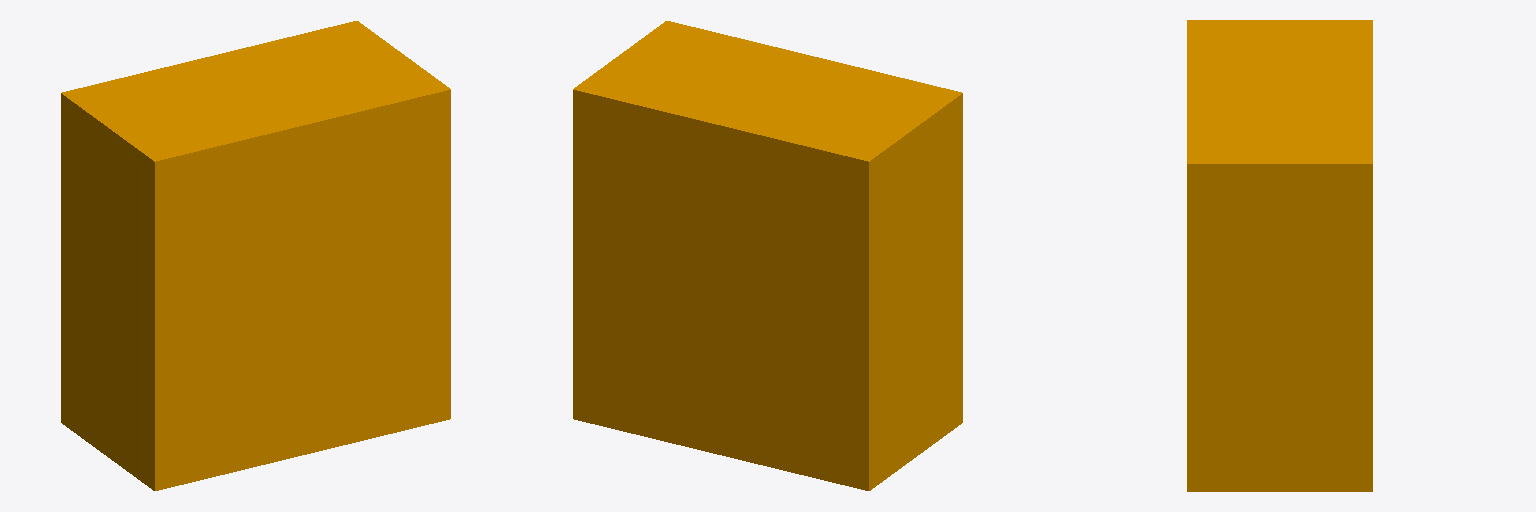
The robot description file, URDF, robot "large_box":
<?xml version="1.0" ?>
<!-- =================================================================================== -->
<!-- |    This document was autogenerated by xacro from [local-path]/ros/hydro/src/rtm-ros-robotics/rtmros_gazebo/hrpsys_gazebo_tutorials/environment_models/large_box/model4.urdf.xacro | -->
<!-- |    EDITING THIS FILE BY HAND IS NOT RECOMMENDED                                 | -->
<!-- =================================================================================== -->
<robot name="large_box" xmlns:body="http://playerstage.sourceforge.net/gazebo/xmlschema/#body" xmlns:controller="http://playerstage.sourceforge.net/gazebo/xmlschema/#controller" xmlns:gazebo="http://playerstage.sourceforge.net/gazebo/xmlschema/#gz" xmlns:geom="http://playerstage.sourceforge.net/gazebo/xmlschema/#geom" xmlns:interface="http://playerstage.sourceforge.net/gazebo/xmlschema/#interface" xmlns:joint="http://playerstage.sourceforge.net/gazebo/xmlschema/#joint" xmlns:model="http://playerstage.sourceforge.net/gazebo/xmlschema/#model" xmlns:physics="http://playerstage.sourceforge.net/gazebo/xmlschema/#physics" xmlns:renderable="http://playerstage.sourceforge.net/gazebo/xmlschema/#renderable" xmlns:rendering="http://playerstage.sourceforge.net/gazebo/xmlschema/#rendering" xmlns:sensor="http://playerstage.sourceforge.net/gazebo/xmlschema/#sensor" xmlns:xacro="http://www.ros.org/wiki/xacro" xmlns:xi="http://www.w3.org/2001/XInclude">
  <gazebo>
    <static>false</static>
  </gazebo>
  <link name="nil_link4">
    <visual>
      <origin xyz="0 0 0"/>
      <geometry>
        <box size="0.80 0.44 0.85"/>
      </geometry>
    </visual>
    <collision>
      <origin xyz="0 0 0"/>
      <geometry>
        <box size="0.80 0.44 0.85"/>
      </geometry>
    </collision>
    <inertial>
      <mass value="7.5"/>
      <origin rpy="0 0 0" xyz="0.0 0.0 0.5"/>
      <inertia ixx="10.0" ixy="0" ixz="0" iyy="5.7411" iyz="0" izz="0.788"/>
    </inertial>
  </link>
  <gazebo reference="nil_link4">
    <kp>1.000000e+06</kp>
    <kd>100.0</kd>
    <mu1>50.0</mu1>
    <mu2>50.0</mu2>
    <fdir1>1.0 0.0 0.0</fdir1>
  </gazebo>
  <gazebo reference="nil_link4">
    <material>Gazebo/Blue</material>
  </gazebo>
  <gazebo>
    <plugin filename="libAddForcePlugin2.so" name="simple_box_add_force_plugin2">
      <objname>obj4</objname>
      <linkname1>LARM_LINK6</linkname1>
      <linkname2>RARM_LINK6</linkname2>
    </plugin>
    <plugin filename="libGetVelPlugin.so" name="simple_box_get_vel_plugin">
      <objname>obj4</objname>
      <linkname>nil_link4</linkname>
    </plugin>
    <plugin filename="libSetVelPlugin.so" name="simple_box_set_vel_plugin">
      <objname>obj4</objname>
      <linkname>nil_link4</linkname>
    </plugin>
  </gazebo>
  <link name="LARM_LINK6">
    <visual>
      <origin rpy="0 -0 0" xyz="0 0 0"/>
      <geometry>
        <mesh filename="package://hrpsys_gazebo_tutorials/robot_models/HRP3HAND_L/meshes/LARM_LINK6_mesh.dae" scale="1 1 1"/>
      </geometry>
    </visual>
    <collision>
      <origin rpy="0 -0 0" xyz="0 0 0"/>
      <geometry>
        <mesh filename="package://hrpsys_gazebo_tutorials/robot_models/HRP3HAND_L/meshes/LARM_LINK6_mesh.dae" scale="1 1 1"/>
      </geometry>
    </collision>
    <inertial>
      <mass value="0.001"/>
      <origin rpy="0 -0 0" xyz="0.00067085 0.00738842 -0.085722"/>
      <inertia ixx="1e-02" ixy="0" ixz="0" iyy="1e-02" iyz="0" izz="1e-02"/>
    </inertial>
  </link>
  <gazebo reference="LARM_LINK6">
    <mu1>0.9</mu1>
    <mu2>0.9</mu2>
  </gazebo>
  <link name="L_INDEXMP_R_LINK">
    <visual>
      <origin rpy="0 -0 0" xyz="0 -0.0102 -0.1547"/>
      <geometry>
        <mesh filename="package://hrpsys_gazebo_tutorials/robot_models/HRP3HAND_L/meshes/L_INDEXMP_R_LINK_mesh.dae" scale="1 1 1"/>
      </geometry>
    </visual>
    <collision>
      <origin rpy="0 -0 0" xyz="0 -0.0102 -0.1547"/>
      <geometry>
        <mesh filename="package://hrpsys_gazebo_tutorials/robot_models/HRP3HAND_L/meshes/L_INDEXMP_R_LINK_mesh.dae" scale="1 1 1"/>
      </geometry>
    </collision>
    <inertial>
      <mass value="0.001"/>
      <origin rpy="0 -0 0" xyz="0.00509194 0.00581104 6.273e-05"/>
      <inertia ixx="1e-02" ixy="0" ixz="0" iyy="1e-02" iyz="0" izz="1e-02"/>
    </inertial>
  </link>
  <gazebo reference="L_INDEXMP_R_LINK">
    <mu1>0.9</mu1>
    <mu2>0.9</mu2>
  </gazebo>
  <link name="L_INDEXMP_P_LINK">
    <visual>
      <origin rpy="0 -0 0" xyz="0.02 0 0"/>
      <geometry>
        <mesh filename="package://hrpsys_gazebo_tutorials/robot_models/HRP3HAND_L/meshes/L_INDEXMP_P_LINK_mesh.dae" scale="1 1 1"/>
      </geometry>
    </visual>
    <collision>
      <origin rpy="0 -0 0" xyz="0.02 0 0"/>
      <geometry>
        <mesh filename="package://hrpsys_gazebo_tutorials/robot_models/HRP3HAND_L/meshes/L_INDEXMP_P_LINK_mesh.dae" scale="1 1 1"/>
      </geometry>
    </collision>
    <inertial>
      <mass value="0.001"/>
      <origin rpy="0 -0 0" xyz="-0.00078463 -0.00129762 -0.0281757"/>
      <inertia ixx="1e-02" ixy="0" ixz="0" iyy="1e-02" iyz="0" izz="1e-02"/>
    </inertial>
  </link>
  <gazebo reference="L_INDEXMP_P_LINK">
    <mu1>0.9</mu1>
    <mu2>0.9</mu2>
  </gazebo>
  <link name="L_INDEXPIP_R_LINK">
    <visual>
      <origin rpy="0 -0 0" xyz="0 -0.01125 -0.055"/>
      <geometry>
        <mesh filename="package://hrpsys_gazebo_tutorials/robot_models/HRP3HAND_L/meshes/L_INDEXPIP_R_LINK_mesh.dae" scale="1 1 1"/>
      </geometry>
    </visual>
    <collision>
      <origin rpy="0 -0 0" xyz="0 -0.01125 -0.055"/>
      <geometry>
        <mesh filename="package://hrpsys_gazebo_tutorials/robot_models/HRP3HAND_L/meshes/L_INDEXPIP_R_LINK_mesh.dae" scale="1 1 1"/>
      </geometry>
    </collision>
    <inertial>
      <mass value="0.001"/>
      <origin rpy="0 -0 0" xyz="0.0210676 -0.0134797 -0.0204042"/>
      <inertia ixx="1e-02" ixy="0" ixz="0" iyy="1e-02" iyz="0" izz="1e-02"/>
    </inertial>
  </link>
  <gazebo reference="L_INDEXPIP_R_LINK">
    <mu1>0.9</mu1>
    <mu2>0.9</mu2>
  </gazebo>
  <link name="L_MIDDLEPIP_R_LINK">
    <visual>
      <origin rpy="0 -0 0" xyz="0 -0.02145 -0.2097"/>
      <geometry>
        <mesh filename="package://hrpsys_gazebo_tutorials/robot_models/HRP3HAND_L/meshes/L_MIDDLEPIP_R_LINK_mesh.dae" scale="1 1 1"/>
      </geometry>
    </visual>
    <collision>
      <origin rpy="0 -0 0" xyz="0 -0.02145 -0.2097"/>
      <geometry>
        <mesh filename="package://hrpsys_gazebo_tutorials/robot_models/HRP3HAND_L/meshes/L_MIDDLEPIP_R_LINK_mesh.dae" scale="1 1 1"/>
      </geometry>
    </collision>
    <inertial>
      <mass value="0.001"/>
      <origin rpy="0 -0 0" xyz="-0.0171953 -0.0140037 -0.0195553"/>
      <inertia ixx="1e-02" ixy="0" ixz="0" iyy="1e-02" iyz="0" izz="1e-02"/>
    </inertial>
  </link>
  <gazebo reference="L_MIDDLEPIP_R_LINK">
    <mu1>0.9</mu1>
    <mu2>0.9</mu2>
  </gazebo>
  <link name="L_THUMBCM_Y_LINK">
    <visual>
      <origin rpy="0 -0 0" xyz="0 -0.0102 -0.1292"/>
      <geometry>
        <mesh filename="package://hrpsys_gazebo_tutorials/robot_models/HRP3HAND_L/meshes/L_THUMBCM_Y_LINK_mesh.dae" scale="1 1 1"/>
      </geometry>
    </visual>
    <collision>
      <origin rpy="0 -0 0" xyz="0 -0.0102 -0.1292"/>
      <geometry>
        <mesh filename="package://hrpsys_gazebo_tutorials/robot_models/HRP3HAND_L/meshes/L_THUMBCM_Y_LINK_mesh.dae" scale="1 1 1"/>
      </geometry>
    </collision>
    <inertial>
      <mass value="0.001"/>
      <origin rpy="0 -0 0" xyz="0.0314882 -0.00644999 0.00140644"/>
      <inertia ixx="1e-02" ixy="0" ixz="0" iyy="1e-02" iyz="0" izz="1e-02"/>
    </inertial>
  </link>
  <gazebo reference="L_THUMBCM_Y_LINK">
    <mu1>0.9</mu1>
    <mu2>0.9</mu2>
  </gazebo>
  <link name="L_THUMBCM_P_LINK">
    <visual>
      <origin rpy="0 -0 0" xyz="0.045 0 0"/>
      <geometry>
        <mesh filename="package://hrpsys_gazebo_tutorials/robot_models/HRP3HAND_L/meshes/L_THUMBCM_P_LINK_mesh.dae" scale="1 1 1"/>
      </geometry>
    </visual>
    <collision>
      <origin rpy="0 -0 0" xyz="0.045 0 0"/>
      <geometry>
        <mesh filename="package://hrpsys_gazebo_tutorials/robot_models/HRP3HAND_L/meshes/L_THUMBCM_P_LINK_mesh.dae" scale="1 1 1"/>
      </geometry>
    </collision>
    <inertial>
      <mass value="0.001"/>
      <origin rpy="0 -0 0" xyz="0.00682086 -0.013234 -0.0305205"/>
      <inertia ixx="1e-02" ixy="0" ixz="0" iyy="1e-02" iyz="0" izz="1e-02"/>
    </inertial>
  </link>
  <gazebo reference="L_THUMBCM_P_LINK">
    <mu1>0.9</mu1>
    <mu2>0.9</mu2>
  </gazebo>
  <joint name="L_INDEXMP_R" type="revolute">
    <parent link="LARM_LINK6"/>
    <child link="L_INDEXMP_R_LINK"/>
    <origin rpy="0 -0 0 " xyz="0 -0.0102 -0.1547"/>
    <axis xyz="-1 0 0"/>
    <limit effort="100" lower="-0.261799" upper="1.6057" velocity="0.5"/>
    <dynamics damping="0.2" friction="0"/>
  </joint>
  <transmission name="L_INDEXMP_R_trans" type="pr2_mechanism_model/SimpleTransmission">
    <actuator name="L_INDEXMP_R_motor"/>
    <joint name="L_INDEXMP_R"/>
    <mechanicalReduction>1</mechanicalReduction>
  </transmission>
  <gazebo reference="L_INDEXMP_R">
    <cfmDamping>0.4</cfmDamping>
  </gazebo>
  <joint name="L_INDEXMP_P" type="revolute">
    <parent link="L_INDEXMP_R_LINK"/>
    <child link="L_INDEXMP_P_LINK"/>
    <origin rpy="0 -0 0 " xyz="0.02 0 0"/>
    <axis xyz="0 -1 0"/>
    <limit effort="100" lower="-0" upper="1.5708" velocity="0.5"/>
    <dynamics damping="0.2" friction="0"/>
  </joint>
  <transmission name="L_INDEXMP_P_trans" type="pr2_mechanism_model/SimpleTransmission">
    <actuator name="L_INDEXMP_P_motor"/>
    <joint name="L_INDEXMP_P"/>
    <mechanicalReduction>1</mechanicalReduction>
  </transmission>
  <gazebo reference="L_INDEXMP_P">
    <cfmDamping>0.4</cfmDamping>
  </gazebo>
  <joint name="L_INDEXPIP_R" type="revolute">
    <parent link="L_INDEXMP_P_LINK"/>
    <child link="L_INDEXPIP_R_LINK"/>
    <origin rpy="0 -0 0 " xyz="0 -0.01125 -0.055"/>
    <axis xyz="-1 0 0"/>
    <limit effort="100" lower="-0.698132" upper="2.00713" velocity="0.5"/>
    <dynamics damping="0.2" friction="0"/>
  </joint>
  <transmission name="L_INDEXPIP_R_trans" type="pr2_mechanism_model/SimpleTransmission">
    <actuator name="L_INDEXPIP_R_motor"/>
    <joint name="L_INDEXPIP_R"/>
    <mechanicalReduction>1</mechanicalReduction>
  </transmission>
  <gazebo reference="L_INDEXPIP_R">
    <cfmDamping>0.4</cfmDamping>
  </gazebo>
  <joint name="L_MIDDLEPIP_R" type="revolute">
    <parent link="LARM_LINK6"/>
    <child link="L_MIDDLEPIP_R_LINK"/>
    <origin rpy="0 -0 0 " xyz="0 -0.02145 -0.2097"/>
    <axis xyz="-1 0 0"/>
    <limit effort="100" lower="-0.698132" upper="2.00713" velocity="0.5"/>
    <dynamics damping="0.2" friction="0"/>
  </joint>
  <transmission name="L_MIDDLEPIP_R_trans" type="pr2_mechanism_model/SimpleTransmission">
    <actuator name="L_MIDDLEPIP_R_motor"/>
    <joint name="L_MIDDLEPIP_R"/>
    <mechanicalReduction>1</mechanicalReduction>
  </transmission>
  <gazebo reference="L_MIDDLEPIP_R">
    <cfmDamping>0.4</cfmDamping>
  </gazebo>
  <joint name="L_THUMBCM_Y" type="revolute">
    <parent link="LARM_LINK6"/>
    <child link="L_THUMBCM_Y_LINK"/>
    <origin rpy="0 -0 0 " xyz="0 -0.0102 -0.1292"/>
    <axis xyz="0 0 -1"/>
    <limit effort="100" lower="-0.261799" upper="1.6057" velocity="0.5"/>
    <dynamics damping="0.2" friction="0"/>
  </joint>
  <transmission name="L_THUMBCM_Y_trans" type="pr2_mechanism_model/SimpleTransmission">
    <actuator name="L_THUMBCM_Y_motor"/>
    <joint name="L_THUMBCM_Y"/>
    <mechanicalReduction>1</mechanicalReduction>
  </transmission>
  <gazebo reference="L_THUMBCM_Y">
    <cfmDamping>0.4</cfmDamping>
  </gazebo>
  <joint name="L_THUMBCM_P" type="revolute">
    <parent link="L_THUMBCM_Y_LINK"/>
    <child link="L_THUMBCM_P_LINK"/>
    <origin rpy="0 -0 0 " xyz="0.045 0 0"/>
    <axis xyz="0 -1 0"/>
    <limit effort="100" lower="-0.523599" upper="1.6057" velocity="0.5"/>
    <dynamics damping="0.2" friction="0"/>
  </joint>
  <transmission name="L_THUMBCM_P_trans" type="pr2_mechanism_model/SimpleTransmission">
    <actuator name="L_THUMBCM_P_motor"/>
    <joint name="L_THUMBCM_P"/>
    <mechanicalReduction>1</mechanicalReduction>
  </transmission>
  <gazebo reference="L_THUMBCM_P">
    <cfmDamping>0.4</cfmDamping>
  </gazebo>
  <gazebo>
    <plugin filename="libIOBPlugin.so" name="hrpsys_gazebo_plugin">
      <robotname>HRP3HAND_L</robotname>
      <controller>hrpsys_gazebo_configuration</controller>
    </plugin>
  </gazebo>
  <link name="RARM_LINK6">
    <visual>
      <origin rpy="0 -0 0" xyz="0 0 0"/>
      <geometry>
        <mesh filename="package://hrpsys_gazebo_tutorials/robot_models/HRP3HAND_R/meshes/RARM_LINK6_mesh.dae" scale="1 1 1"/>
      </geometry>
    </visual>
    <collision>
      <origin rpy="0 -0 0" xyz="0 0 0"/>
      <geometry>
        <mesh filename="package://hrpsys_gazebo_tutorials/robot_models/HRP3HAND_R/meshes/RARM_LINK6_mesh.dae" scale="1 1 1"/>
      </geometry>
    </collision>
    <inertial>
      <mass value="0.001"/>
      <origin rpy="0 -0 0" xyz="0.00067085 -0.00738842 -0.085722"/>
      <inertia ixx="1e-02" ixy="0" ixz="0" iyy="1e-02" iyz="0" izz="1e-02"/>
    </inertial>
  </link>
  <gazebo reference="RARM_LINK6">
    <mu1>0.9</mu1>
    <mu2>0.9</mu2>
  </gazebo>
  <link name="R_INDEXMP_R_LINK">
    <visual>
      <origin rpy="0 -0 0" xyz="0 0.0102 -0.1547"/>
      <geometry>
        <mesh filename="package://hrpsys_gazebo_tutorials/robot_models/HRP3HAND_R/meshes/R_INDEXMP_R_LINK_mesh.dae" scale="1 1 1"/>
      </geometry>
    </visual>
    <collision>
      <origin rpy="0 -0 0" xyz="0 0.0102 -0.1547"/>
      <geometry>
        <mesh filename="package://hrpsys_gazebo_tutorials/robot_models/HRP3HAND_R/meshes/R_INDEXMP_R_LINK_mesh.dae" scale="1 1 1"/>
      </geometry>
    </collision>
    <inertial>
      <mass value="0.001"/>
      <origin rpy="0 -0 0" xyz="0.00509194 -0.00581104 6.273e-05"/>
      <inertia ixx="1e-02" ixy="0" ixz="0" iyy="1e-02" iyz="0" izz="1e-02"/>
    </inertial>
  </link>
  <gazebo reference="R_INDEXMP_R_LINK">
    <mu1>0.9</mu1>
    <mu2>0.9</mu2>
  </gazebo>
  <link name="R_INDEXMP_P_LINK">
    <visual>
      <origin rpy="0 -0 0" xyz="0.02 0 0"/>
      <geometry>
        <mesh filename="package://hrpsys_gazebo_tutorials/robot_models/HRP3HAND_R/meshes/R_INDEXMP_P_LINK_mesh.dae" scale="1 1 1"/>
      </geometry>
    </visual>
    <collision>
      <origin rpy="0 -0 0" xyz="0.02 0 0"/>
      <geometry>
        <mesh filename="package://hrpsys_gazebo_tutorials/robot_models/HRP3HAND_R/meshes/R_INDEXMP_P_LINK_mesh.dae" scale="1 1 1"/>
      </geometry>
    </collision>
    <inertial>
      <mass value="0.001"/>
      <origin rpy="0 -0 0" xyz="-0.00078463 0.00129762 -0.0281757"/>
      <inertia ixx="1e-02" ixy="0" ixz="0" iyy="1e-02" iyz="0" izz="1e-02"/>
    </inertial>
  </link>
  <gazebo reference="R_INDEXMP_P_LINK">
    <mu1>0.9</mu1>
    <mu2>0.9</mu2>
  </gazebo>
  <link name="R_INDEXPIP_R_LINK">
    <visual>
      <origin rpy="0 -0 0" xyz="0 0.01125 -0.055"/>
      <geometry>
        <mesh filename="package://hrpsys_gazebo_tutorials/robot_models/HRP3HAND_R/meshes/R_INDEXPIP_R_LINK_mesh.dae" scale="1 1 1"/>
      </geometry>
    </visual>
    <collision>
      <origin rpy="0 -0 0" xyz="0 0.01125 -0.055"/>
      <geometry>
        <mesh filename="package://hrpsys_gazebo_tutorials/robot_models/HRP3HAND_R/meshes/R_INDEXPIP_R_LINK_mesh.dae" scale="1 1 1"/>
      </geometry>
    </collision>
    <inertial>
      <mass value="0.001"/>
      <origin rpy="0 -0 0" xyz="0.0210676 0.0134797 -0.0204042"/>
      <inertia ixx="1e-02" ixy="0" ixz="0" iyy="1e-02" iyz="0" izz="1e-02"/>
    </inertial>
  </link>
  <gazebo reference="R_INDEXPIP_R_LINK">
    <mu1>0.9</mu1>
    <mu2>0.9</mu2>
  </gazebo>
  <link name="R_MIDDLEPIP_R_LINK">
    <visual>
      <origin rpy="0 -0 0" xyz="0 0.02145 -0.2097"/>
      <geometry>
        <mesh filename="package://hrpsys_gazebo_tutorials/robot_models/HRP3HAND_R/meshes/R_MIDDLEPIP_R_LINK_mesh.dae" scale="1 1 1"/>
      </geometry>
    </visual>
    <collision>
      <origin rpy="0 -0 0" xyz="0 0.02145 -0.2097"/>
      <geometry>
        <mesh filename="package://hrpsys_gazebo_tutorials/robot_models/HRP3HAND_R/meshes/R_MIDDLEPIP_R_LINK_mesh.dae" scale="1 1 1"/>
      </geometry>
    </collision>
    <inertial>
      <mass value="0.001"/>
      <origin rpy="0 -0 0" xyz="-0.0171953 0.0140037 -0.0195553"/>
      <inertia ixx="1e-02" ixy="0" ixz="0" iyy="1e-02" iyz="0" izz="1e-02"/>
    </inertial>
  </link>
  <gazebo reference="R_MIDDLEPIP_R_LINK">
    <mu1>0.9</mu1>
    <mu2>0.9</mu2>
  </gazebo>
  <link name="R_THUMBCM_Y_LINK">
    <visual>
      <origin rpy="0 -0 0" xyz="0 0.0102 -0.1292"/>
      <geometry>
        <mesh filename="package://hrpsys_gazebo_tutorials/robot_models/HRP3HAND_R/meshes/R_THUMBCM_Y_LINK_mesh.dae" scale="1 1 1"/>
      </geometry>
    </visual>
    <collision>
      <origin rpy="0 -0 0" xyz="0 0.0102 -0.1292"/>
      <geometry>
        <mesh filename="package://hrpsys_gazebo_tutorials/robot_models/HRP3HAND_R/meshes/R_THUMBCM_Y_LINK_mesh.dae" scale="1 1 1"/>
      </geometry>
    </collision>
    <inertial>
      <mass value="0.001"/>
      <origin rpy="0 -0 0" xyz="0.0314882 0.00644999 0.00140644"/>
      <inertia ixx="1e-02" ixy="0" ixz="0" iyy="1e-02" iyz="0" izz="1e-02"/>
    </inertial>
  </link>
  <gazebo reference="R_THUMBCM_Y_LINK">
    <mu1>0.9</mu1>
    <mu2>0.9</mu2>
  </gazebo>
  <link name="R_THUMBCM_P_LINK">
    <visual>
      <origin rpy="0 -0 0" xyz="0.045 0 0"/>
      <geometry>
        <mesh filename="package://hrpsys_gazebo_tutorials/robot_models/HRP3HAND_R/meshes/R_THUMBCM_P_LINK_mesh.dae" scale="1 1 1"/>
      </geometry>
    </visual>
    <collision>
      <origin rpy="0 -0 0" xyz="0.045 0 0"/>
      <geometry>
        <mesh filename="package://hrpsys_gazebo_tutorials/robot_models/HRP3HAND_R/meshes/R_THUMBCM_P_LINK_mesh.dae" scale="1 1 1"/>
      </geometry>
    </collision>
    <inertial>
      <mass value="0.001"/>
      <origin rpy="0 -0 0" xyz="0.00682086 0.013234 -0.0305205"/>
      <inertia ixx="1e-02" ixy="0" ixz="0" iyy="1e-02" iyz="0" izz="1e-02"/>
    </inertial>
  </link>
  <gazebo reference="R_THUMBCM_P_LINK">
    <mu1>0.9</mu1>
    <mu2>0.9</mu2>
  </gazebo>
  <joint name="R_INDEXMP_R" type="revolute">
    <parent link="RARM_LINK6"/>
    <child link="R_INDEXMP_R_LINK"/>
    <origin rpy="0 -0 0 " xyz="0 0.0102 -0.1547"/>
    <axis xyz="1 0 0"/>
    <limit effort="100" lower="-0.261799" upper="1.6057" velocity="0.5"/>
    <dynamics damping="0.2" friction="0"/>
  </joint>
  <transmission name="R_INDEXMP_R_trans" type="pr2_mechanism_model/SimpleTransmission">
    <actuator name="R_INDEXMP_R_motor"/>
    <joint name="R_INDEXMP_R"/>
    <mechanicalReduction>1</mechanicalReduction>
  </transmission>
  <gazebo reference="R_INDEXMP_R">
    <cfmDamping>0.4</cfmDamping>
  </gazebo>
  <joint name="R_INDEXMP_P" type="revolute">
    <parent link="R_INDEXMP_R_LINK"/>
    <child link="R_INDEXMP_P_LINK"/>
    <origin rpy="0 -0 0 " xyz="0.02 0 0"/>
    <axis xyz="0 -1 0"/>
    <limit effort="100" lower="-0" upper="1.5708" velocity="0.5"/>
    <dynamics damping="0.2" friction="0"/>
  </joint>
  <transmission name="R_INDEXMP_P_trans" type="pr2_mechanism_model/SimpleTransmission">
    <actuator name="R_INDEXMP_P_motor"/>
    <joint name="R_INDEXMP_P"/>
    <mechanicalReduction>1</mechanicalReduction>
  </transmission>
  <gazebo reference="R_INDEXMP_P">
    <cfmDamping>0.4</cfmDamping>
  </gazebo>
  <joint name="R_INDEXPIP_R" type="revolute">
    <parent link="R_INDEXMP_P_LINK"/>
    <child link="R_INDEXPIP_R_LINK"/>
    <origin rpy="0 -0 0 " xyz="0 0.01125 -0.055"/>
    <axis xyz="1 0 0"/>
    <limit effort="100" lower="-0.698132" upper="2.00713" velocity="0.5"/>
    <dynamics damping="0.2" friction="0"/>
  </joint>
  <transmission name="R_INDEXPIP_R_trans" type="pr2_mechanism_model/SimpleTransmission">
    <actuator name="R_INDEXPIP_R_motor"/>
    <joint name="R_INDEXPIP_R"/>
    <mechanicalReduction>1</mechanicalReduction>
  </transmission>
  <gazebo reference="R_INDEXPIP_R">
    <cfmDamping>0.4</cfmDamping>
  </gazebo>
  <joint name="R_MIDDLEPIP_R" type="revolute">
    <parent link="RARM_LINK6"/>
    <child link="R_MIDDLEPIP_R_LINK"/>
    <origin rpy="0 -0 0 " xyz="0 0.02145 -0.2097"/>
    <axis xyz="1 0 0"/>
    <limit effort="100" lower="-0.698132" upper="2.00713" velocity="0.5"/>
    <dynamics damping="0.2" friction="0"/>
  </joint>
  <transmission name="R_MIDDLEPIP_R_trans" type="pr2_mechanism_model/SimpleTransmission">
    <actuator name="R_MIDDLEPIP_R_motor"/>
    <joint name="R_MIDDLEPIP_R"/>
    <mechanicalReduction>1</mechanicalReduction>
  </transmission>
  <gazebo reference="R_MIDDLEPIP_R">
    <cfmDamping>0.4</cfmDamping>
  </gazebo>
  <joint name="R_THUMBCM_Y" type="revolute">
    <parent link="RARM_LINK6"/>
    <child link="R_THUMBCM_Y_LINK"/>
    <origin rpy="0 -0 0 " xyz="0 0.0102 -0.1292"/>
    <axis xyz="0 0 1"/>
    <limit effort="100" lower="-0.261799" upper="1.6057" velocity="0.5"/>
    <dynamics damping="0.2" friction="0"/>
  </joint>
  <transmission name="R_THUMBCM_Y_trans" type="pr2_mechanism_model/SimpleTransmission">
    <actuator name="R_THUMBCM_Y_motor"/>
    <joint name="R_THUMBCM_Y"/>
    <mechanicalReduction>1</mechanicalReduction>
  </transmission>
  <gazebo reference="R_THUMBCM_Y">
    <cfmDamping>0.4</cfmDamping>
  </gazebo>
  <joint name="R_THUMBCM_P" type="revolute">
    <parent link="R_THUMBCM_Y_LINK"/>
    <child link="R_THUMBCM_P_LINK"/>
    <origin rpy="0 -0 0 " xyz="0.045 0 0"/>
    <axis xyz="0 -1 0"/>
    <limit effort="100" lower="-0.523599" upper="1.6057" velocity="0.5"/>
    <dynamics damping="0.2" friction="0"/>
  </joint>
  <transmission name="R_THUMBCM_P_trans" type="pr2_mechanism_model/SimpleTransmission">
    <actuator name="R_THUMBCM_P_motor"/>
    <joint name="R_THUMBCM_P"/>
    <mechanicalReduction>1</mechanicalReduction>
  </transmission>
  <gazebo reference="R_THUMBCM_P">
    <cfmDamping>0.4</cfmDamping>
  </gazebo>
  <gazebo>
    <plugin filename="libIOBPlugin.so" name="hrpsys_gazebo_plugin">
      <robotname>HRP3HAND_R</robotname>
      <controller>hrpsys_gazebo_configuration</controller>
    </plugin>
  </gazebo>
  <joint name="LHAND_DUMMY" type="revolute">
    <origin rpy="3.14159 -1.5708 0" xyz="0.50 -0.28 0.40"/>
    <parent link="nil_link4"/>
    <child link="LARM_LINK6"/>
    <axis xyz="-1 0 0"/>
    <limit effort="100" lower="0" upper="0" velocity="0"/>
    <dynamics damping="0.2" friction="0"/>
  </joint>
  <joint name="RHAND_DUMMY" type="revolute">
    <origin rpy="3.14159 -1.5708 0" xyz="0.50 0.28 0.40"/>
    <parent link="nil_link4"/>
    <child link="RARM_LINK6"/>
    <axis xyz="-1 0 0"/>
    <limit effort="100" lower="0" upper="0" velocity="0"/>
    <dynamics damping="0.2" friction="0"/>
  </joint>
</robot>

--- Facts derived from the render (not from the file) ---
Views: 3 orthographic renders of the robot side by side, from view 1: azimuth 30°, elevation 25°; view 2: azimuth 150°, elevation 25°; view 3: azimuth 270°, elevation 25°.
Robot: large_box — 15 links, 14 joints (14 revolute); root link nil_link4; default pose: all joints at 0.
Visible links, largest first — view 1: nil_link4; view 2: nil_link4; view 3: nil_link4.
Link boxes in pixels (box(x1,y1,x2,y2)): nil_link4: box(61, 21, 450, 490); nil_link4: box(573, 21, 962, 490); nil_link4: box(1187, 20, 1372, 491).
Size in the robot's own frame: 0.8 by 0.44 by 0.85 metres.
0 mesh visuals loaded from 14 distinct referenced files (none loaded); not drawn: 14 (reference not matched to a file when rendering).